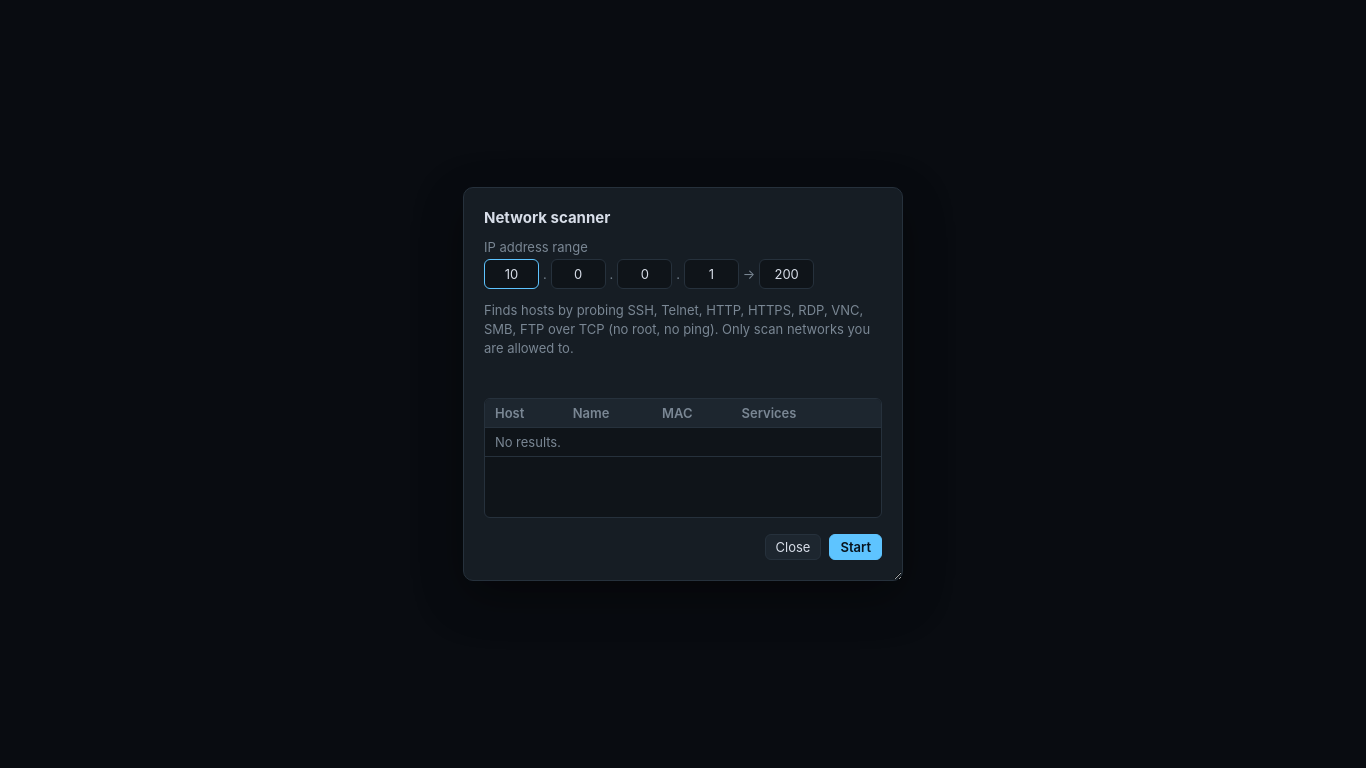
Test: NetworkScannerDialog › shows invalid input errors from the backend
Click the button "Start" at (856, 547), box [829,534,882,560]
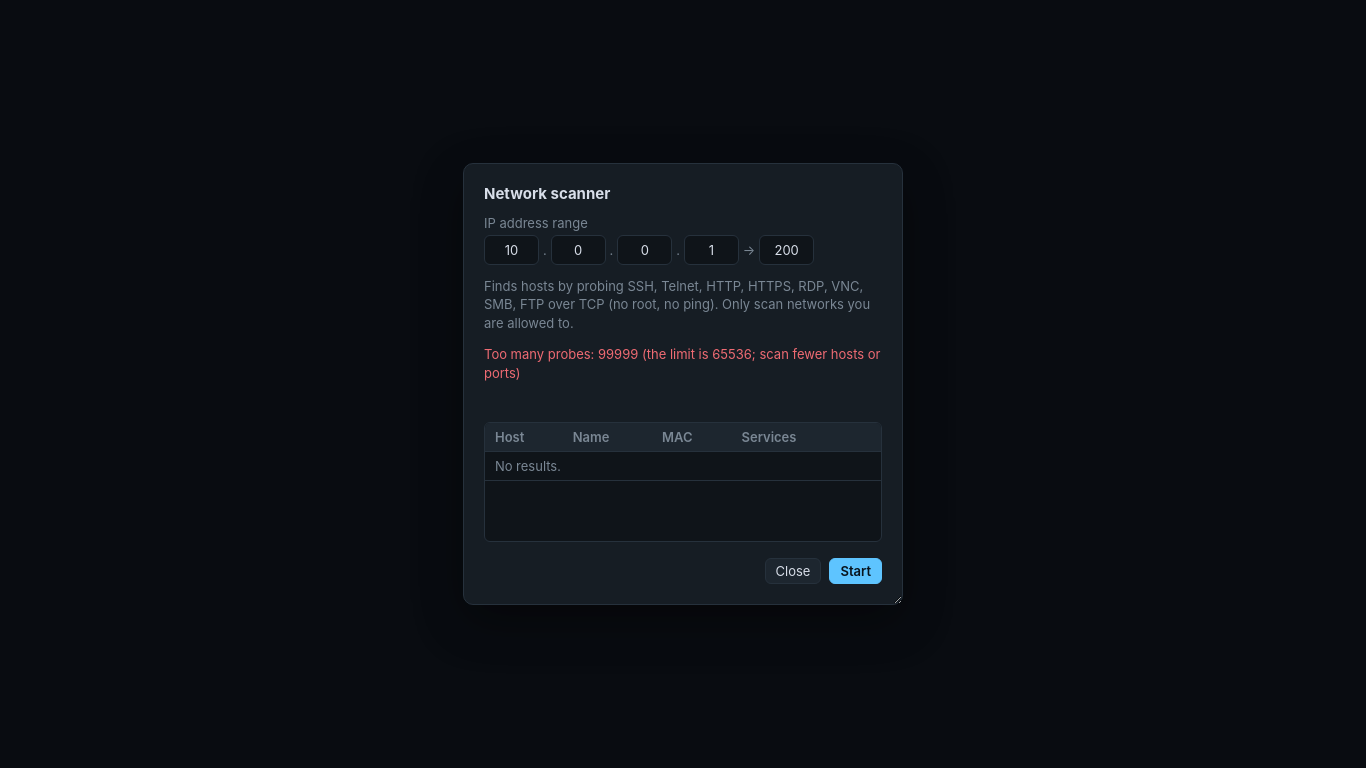
Expected: the message "Too many probes: 99999 (the limit is 65536; scan fewer hosts or ports)" is shown, [484,345,882,383]
